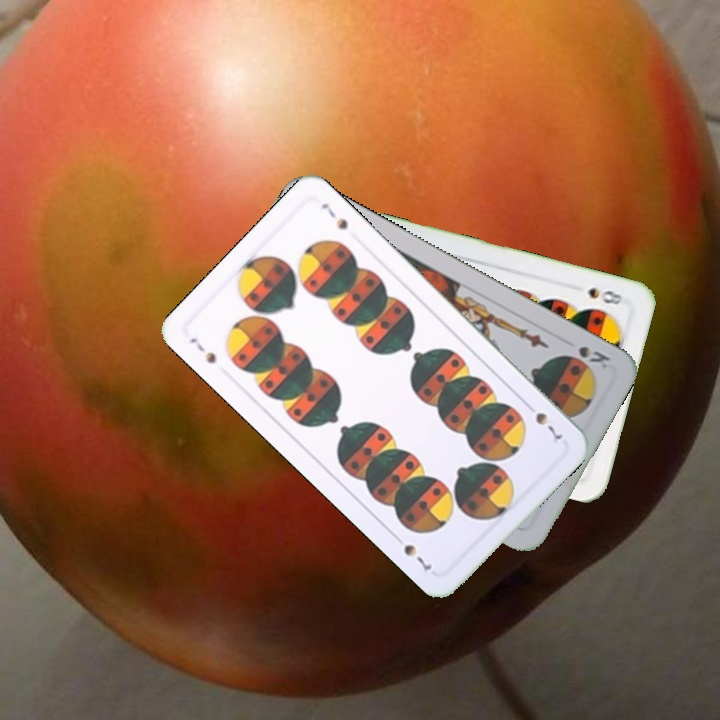S7: (521, 398, 566, 443), (185, 333, 219, 366)
S8: (584, 283, 626, 308)
SK: (574, 342, 613, 366)
